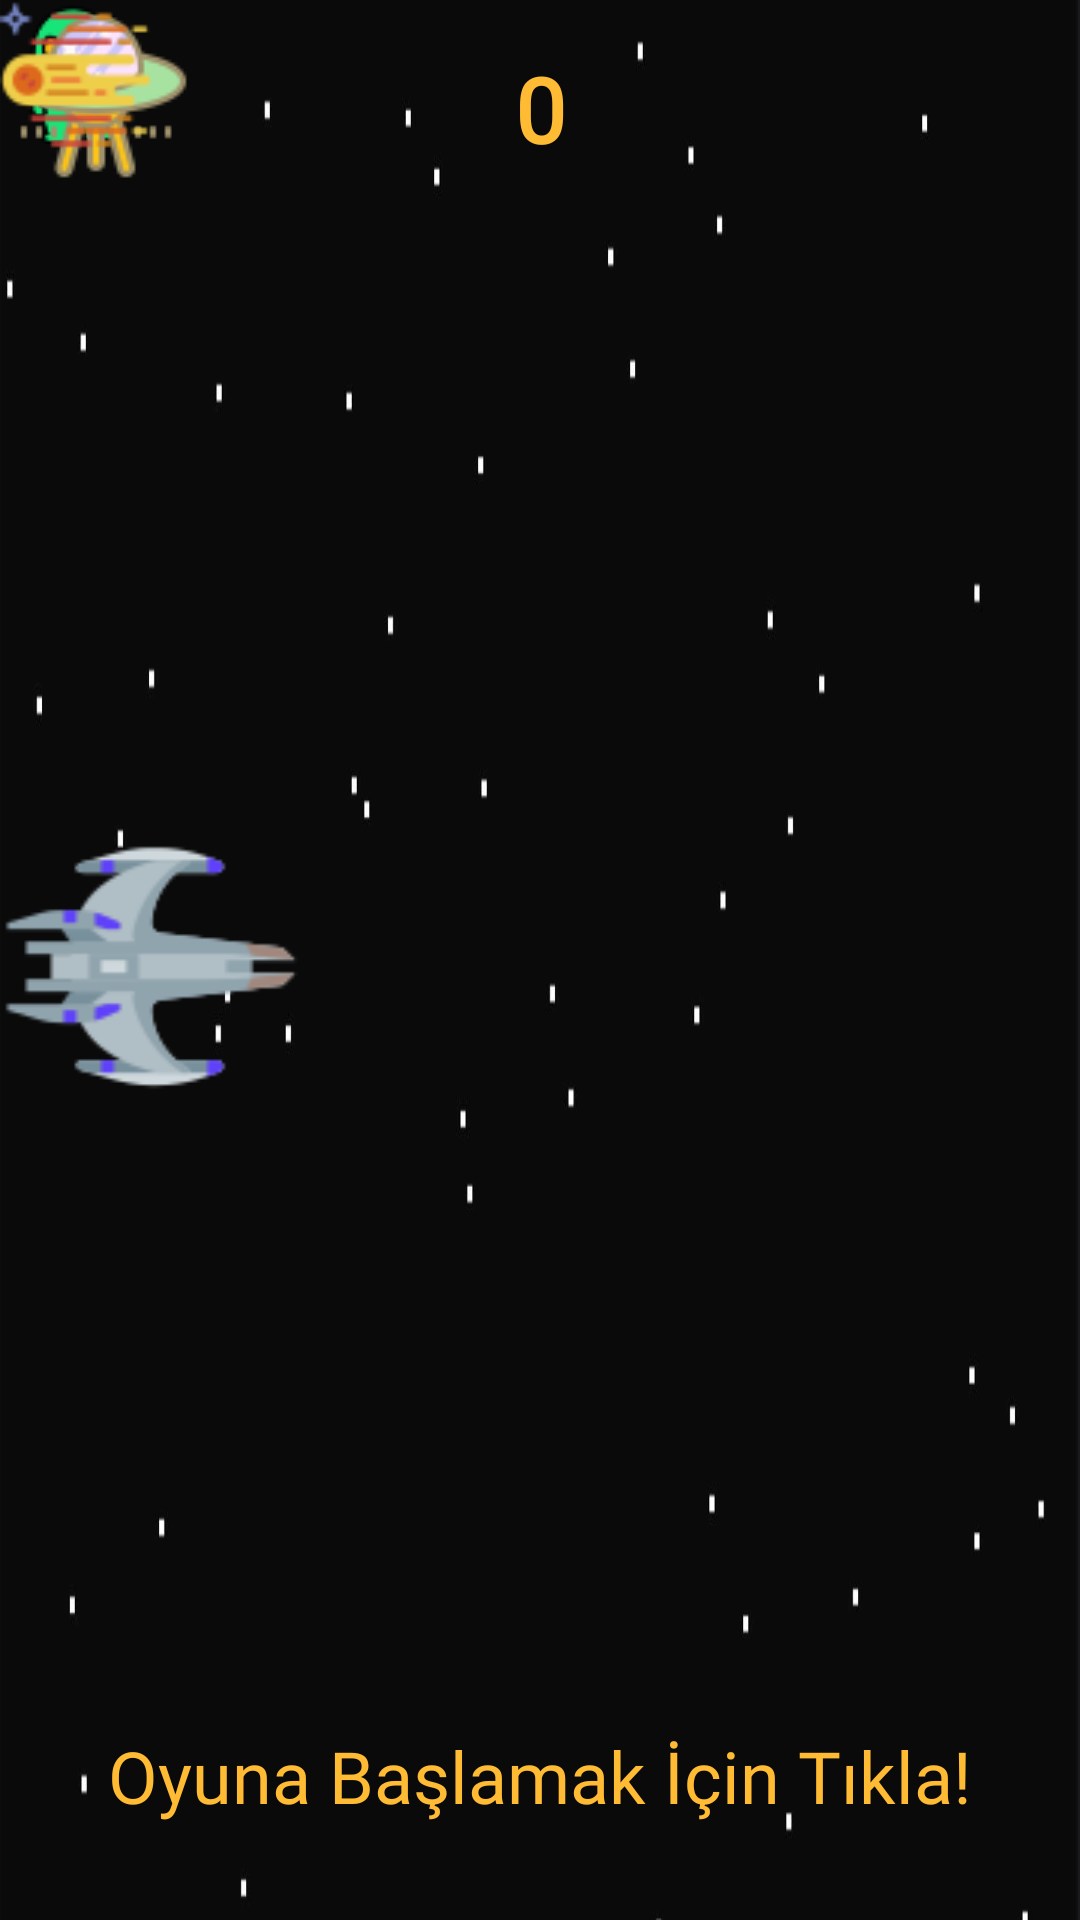

Icons on this 1080*1920 Android screen, each with its box as (left=x1, top=y1, right=x2, bottom=y2):
spaceship: (left=5, top=829, right=295, bottom=1087)
